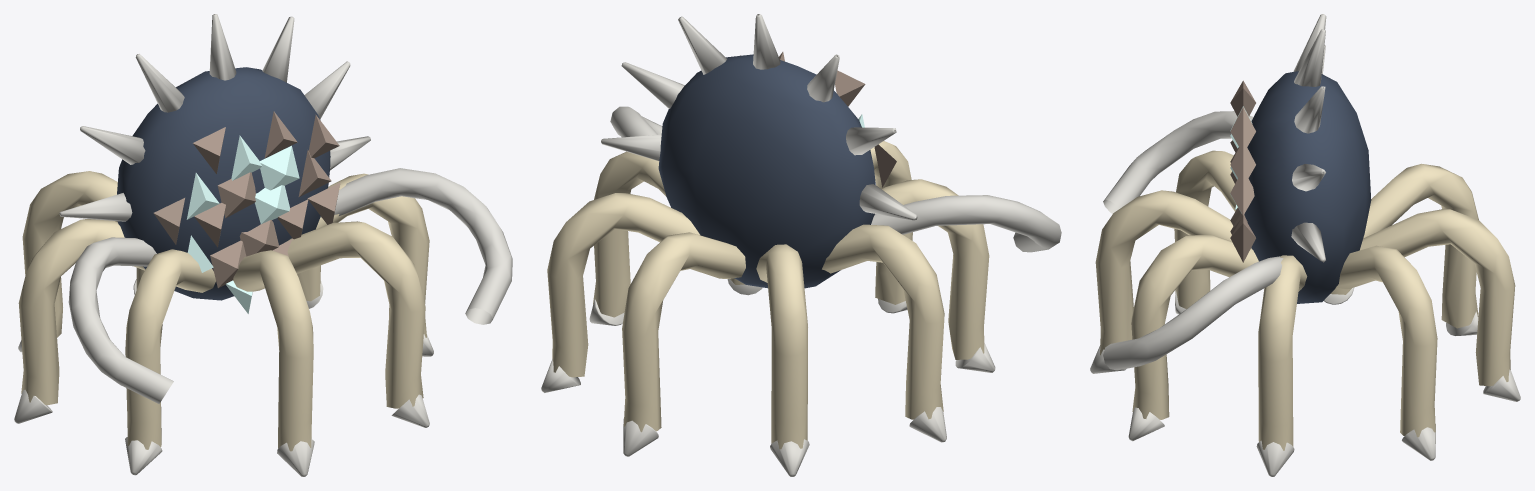
File: bio_crown_stalker_04_far.glb
3 renders of one model, left to right at view 1: azimuth 30°, elevation 25°; view 2: azimuth 150°, elevation 25°; view 3: azimuth 270°, elevation 25°, orthographic. The views are drawn at different scales.
Parts seen in each view (by area): view 1: Faceted crown substrate, Crooked support.006, Compound lens facet.001, Crooked support.005, Scythe sensory limb.001, Crown radiating blade, Crooked support.003, Crooked support.004, Scythe sensory limb, Compound lens facet, Crooked support.002, Crooked support.007 (+5 smaller); view 2: Faceted crown substrate, Crooked support, Crooked support.001, Crooked support.003, Crooked support.002, Crown radiating blade, Crooked support.004, Scythe sensory limb, Crooked support.007, Crooked support.005, Compound lens facet.001, Scythe sensory limb.001 (+5 smaller); view 3: Faceted crown substrate, Crooked support.001, Crooked support.005, Crooked support, Crooked support.006, Crooked support.002, Crooked support.007, Scythe sensory limb.001, Scythe sensory limb, Crown radiating blade, Crooked support.004, Compound lens facet.001 (+4 smaller).
Part boxes in pixels (<box>): Faceted crown substrate: <box>117,67,330,300</box>; Crooked support.006: <box>285,221,425,408</box>; Compound lens facet.001: <box>153,111,340,288</box>; Crooked support.005: <box>233,250,313,451</box>; Scythe sensory limb.001: <box>320,168,512,324</box>; Crown radiating blade: <box>59,14,370,221</box>; Crooked support.003: <box>18,219,145,405</box>; Crooked support.004: <box>125,249,215,449</box>; Scythe sensory limb: <box>68,237,173,403</box>; Compound lens facet: <box>186,135,299,313</box>; Crooked support.002: <box>22,171,117,337</box>; Crooked support.007: <box>316,173,429,337</box>; Faceted crown substrate: <box>658,54,875,288</box>; Crooked support: <box>547,193,699,377</box>; Crooked support.001: <box>622,232,745,432</box>; Crooked support.003: <box>822,224,944,419</box>; Crooked support.002: <box>756,244,807,449</box>; Crown radiating blade: <box>601,14,917,220</box>; Crooked support.004: <box>882,179,989,359</box>; Scythe sensory limb: <box>871,195,1061,252</box>; Crooked support.007: <box>593,151,666,317</box>; Crooked support.005: <box>870,141,912,304</box>; Compound lens facet.001: <box>740,52,896,187</box>; Scythe sensory limb.001: <box>610,106,662,137</box>; Faceted crown substrate: <box>1244,71,1371,303</box>; Crooked support.001: <box>1360,209,1515,386</box>; Crooked support.005: <box>1095,190,1233,355</box>; Crooked support: <box>1335,245,1437,437</box>; Crooked support.006: <box>1131,234,1258,419</box>; Crooked support.002: <box>1363,163,1478,328</box>; Crooked support.007: <box>1258,255,1307,450</box>; Scythe sensory limb.001: <box>1103,256,1283,370</box>; Scythe sensory limb: <box>1103,111,1253,213</box>; Crown radiating blade: <box>1291,14,1326,262</box>; Crooked support.004: <box>1174,150,1236,308</box>; Compound lens facet.001: <box>1230,80,1255,262</box>.
Bounding box in the file's own units: 2.59 × 2.16 × 2.35.
